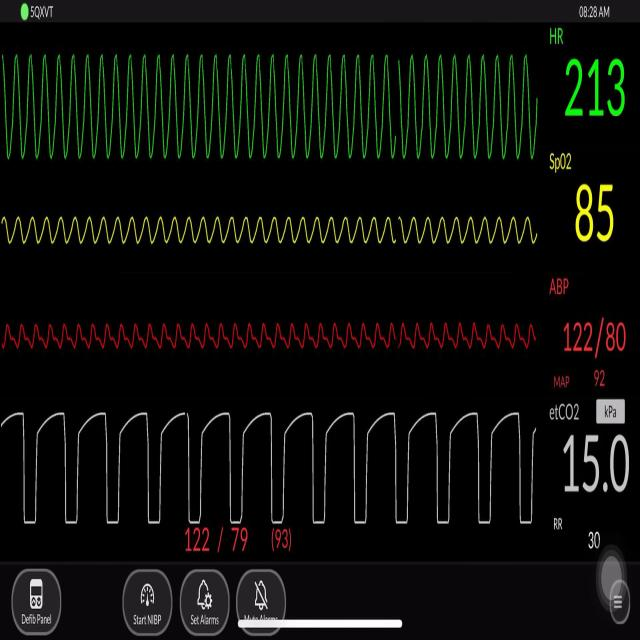danger: (167, 43, 461, 177)
